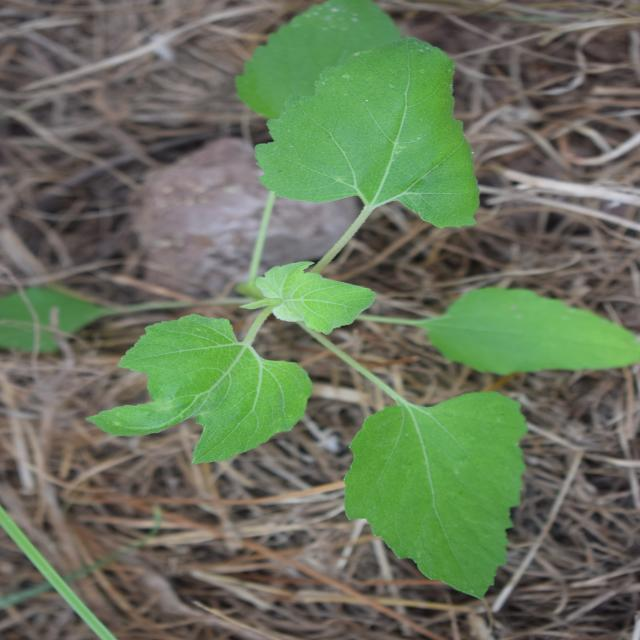cocklebur: (58, 115, 612, 568)
